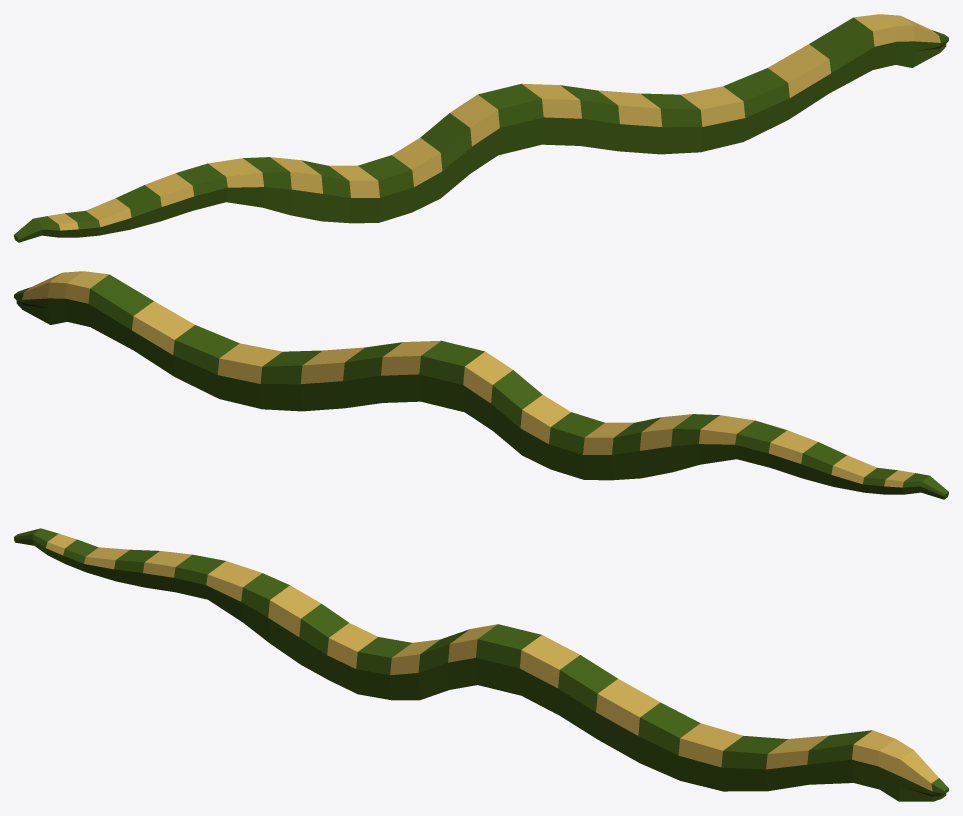
The model's file is Snake.glb.
The picture shows the model from 3 angles, top to bottom: view 1: azimuth 30°, elevation 25°; view 2: azimuth 150°, elevation 25°; view 3: azimuth 330°, elevation 25°; orthographic projection.
Visible parts, largest first — view 1: snake; view 2: snake; view 3: snake.
Boxes of the visible parts, x1,y1,x2,y2 form: snake: (14, 14, 948, 242); snake: (14, 271, 948, 499); snake: (14, 528, 948, 801).
Size of the model in its own units: 4.33 by 0.4111 by 0.1928.
